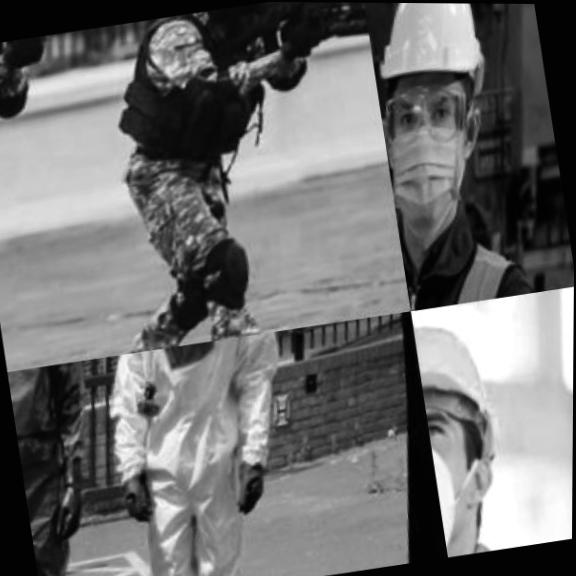safety_vest: (76, 331, 310, 576), (97, 1, 295, 188), (5, 357, 131, 576), (0, 42, 21, 185)
